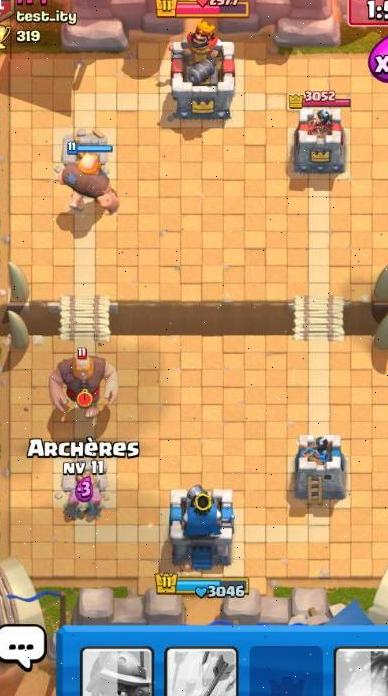enemy_giant: (45, 347, 122, 420)
player_giant: (52, 144, 124, 215)
